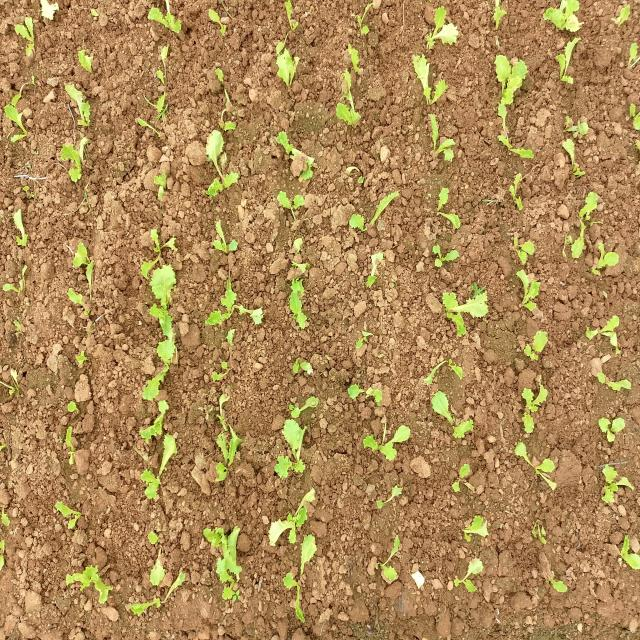Lettuce: (283, 535, 321, 622), (148, 263, 180, 357), (344, 189, 405, 238), (488, 96, 534, 160), (561, 191, 603, 261), (511, 440, 566, 492), (205, 517, 241, 595), (264, 490, 316, 544), (142, 432, 180, 504), (206, 281, 264, 327), (128, 574, 187, 618), (54, 131, 100, 186), (430, 389, 476, 443), (204, 129, 238, 197), (492, 53, 530, 109), (369, 532, 406, 588), (443, 292, 489, 337), (140, 229, 181, 278), (65, 565, 115, 605), (212, 424, 244, 486), (276, 419, 307, 483), (364, 424, 412, 465), (140, 347, 174, 403), (276, 133, 315, 181), (413, 55, 448, 108), (582, 316, 626, 358), (426, 109, 455, 170), (600, 460, 633, 512), (63, 78, 97, 128), (426, 7, 459, 55), (139, 395, 171, 442), (541, 0, 587, 32), (1, 99, 33, 144), (145, 526, 167, 591), (272, 0, 300, 51), (424, 357, 466, 391), (370, 476, 404, 516), (334, 68, 356, 129), (274, 188, 306, 228), (210, 217, 240, 259), (73, 246, 103, 287), (451, 556, 484, 593), (560, 138, 592, 176), (555, 38, 580, 86), (148, 5, 184, 38), (221, 83, 243, 136), (436, 188, 463, 231), (2, 262, 29, 302), (290, 275, 310, 329), (588, 242, 616, 280), (14, 19, 38, 63), (347, 378, 384, 406), (515, 384, 551, 412), (276, 46, 298, 91), (518, 268, 540, 313), (520, 330, 550, 363), (212, 390, 235, 431), (596, 416, 626, 447), (12, 71, 41, 103), (52, 501, 81, 533), (458, 512, 490, 541), (363, 247, 382, 294), (558, 115, 595, 139), (451, 458, 473, 497), (618, 536, 640, 575), (431, 242, 462, 268), (66, 288, 91, 320), (597, 372, 633, 394), (610, 0, 632, 35), (343, 157, 370, 185), (289, 395, 320, 419), (136, 114, 163, 141), (154, 88, 178, 118), (12, 206, 29, 248), (156, 38, 170, 88), (358, 2, 377, 37), (352, 327, 377, 353), (514, 235, 537, 263), (515, 406, 538, 434), (544, 571, 569, 596), (508, 171, 524, 210), (209, 7, 227, 40), (62, 424, 76, 466), (207, 358, 231, 382), (289, 359, 319, 378), (153, 169, 170, 202), (74, 51, 98, 74), (7, 365, 22, 401), (222, 326, 237, 359), (623, 39, 638, 72), (288, 257, 313, 275), (348, 41, 360, 78), (628, 102, 640, 137), (492, 2, 504, 36), (70, 349, 93, 366), (211, 62, 227, 84), (532, 518, 546, 543), (627, 136, 640, 158), (11, 320, 25, 340), (66, 399, 80, 419), (290, 236, 304, 255), (0, 508, 10, 528), (0, 537, 5, 574), (0, 435, 7, 457), (471, 92, 472, 96)
